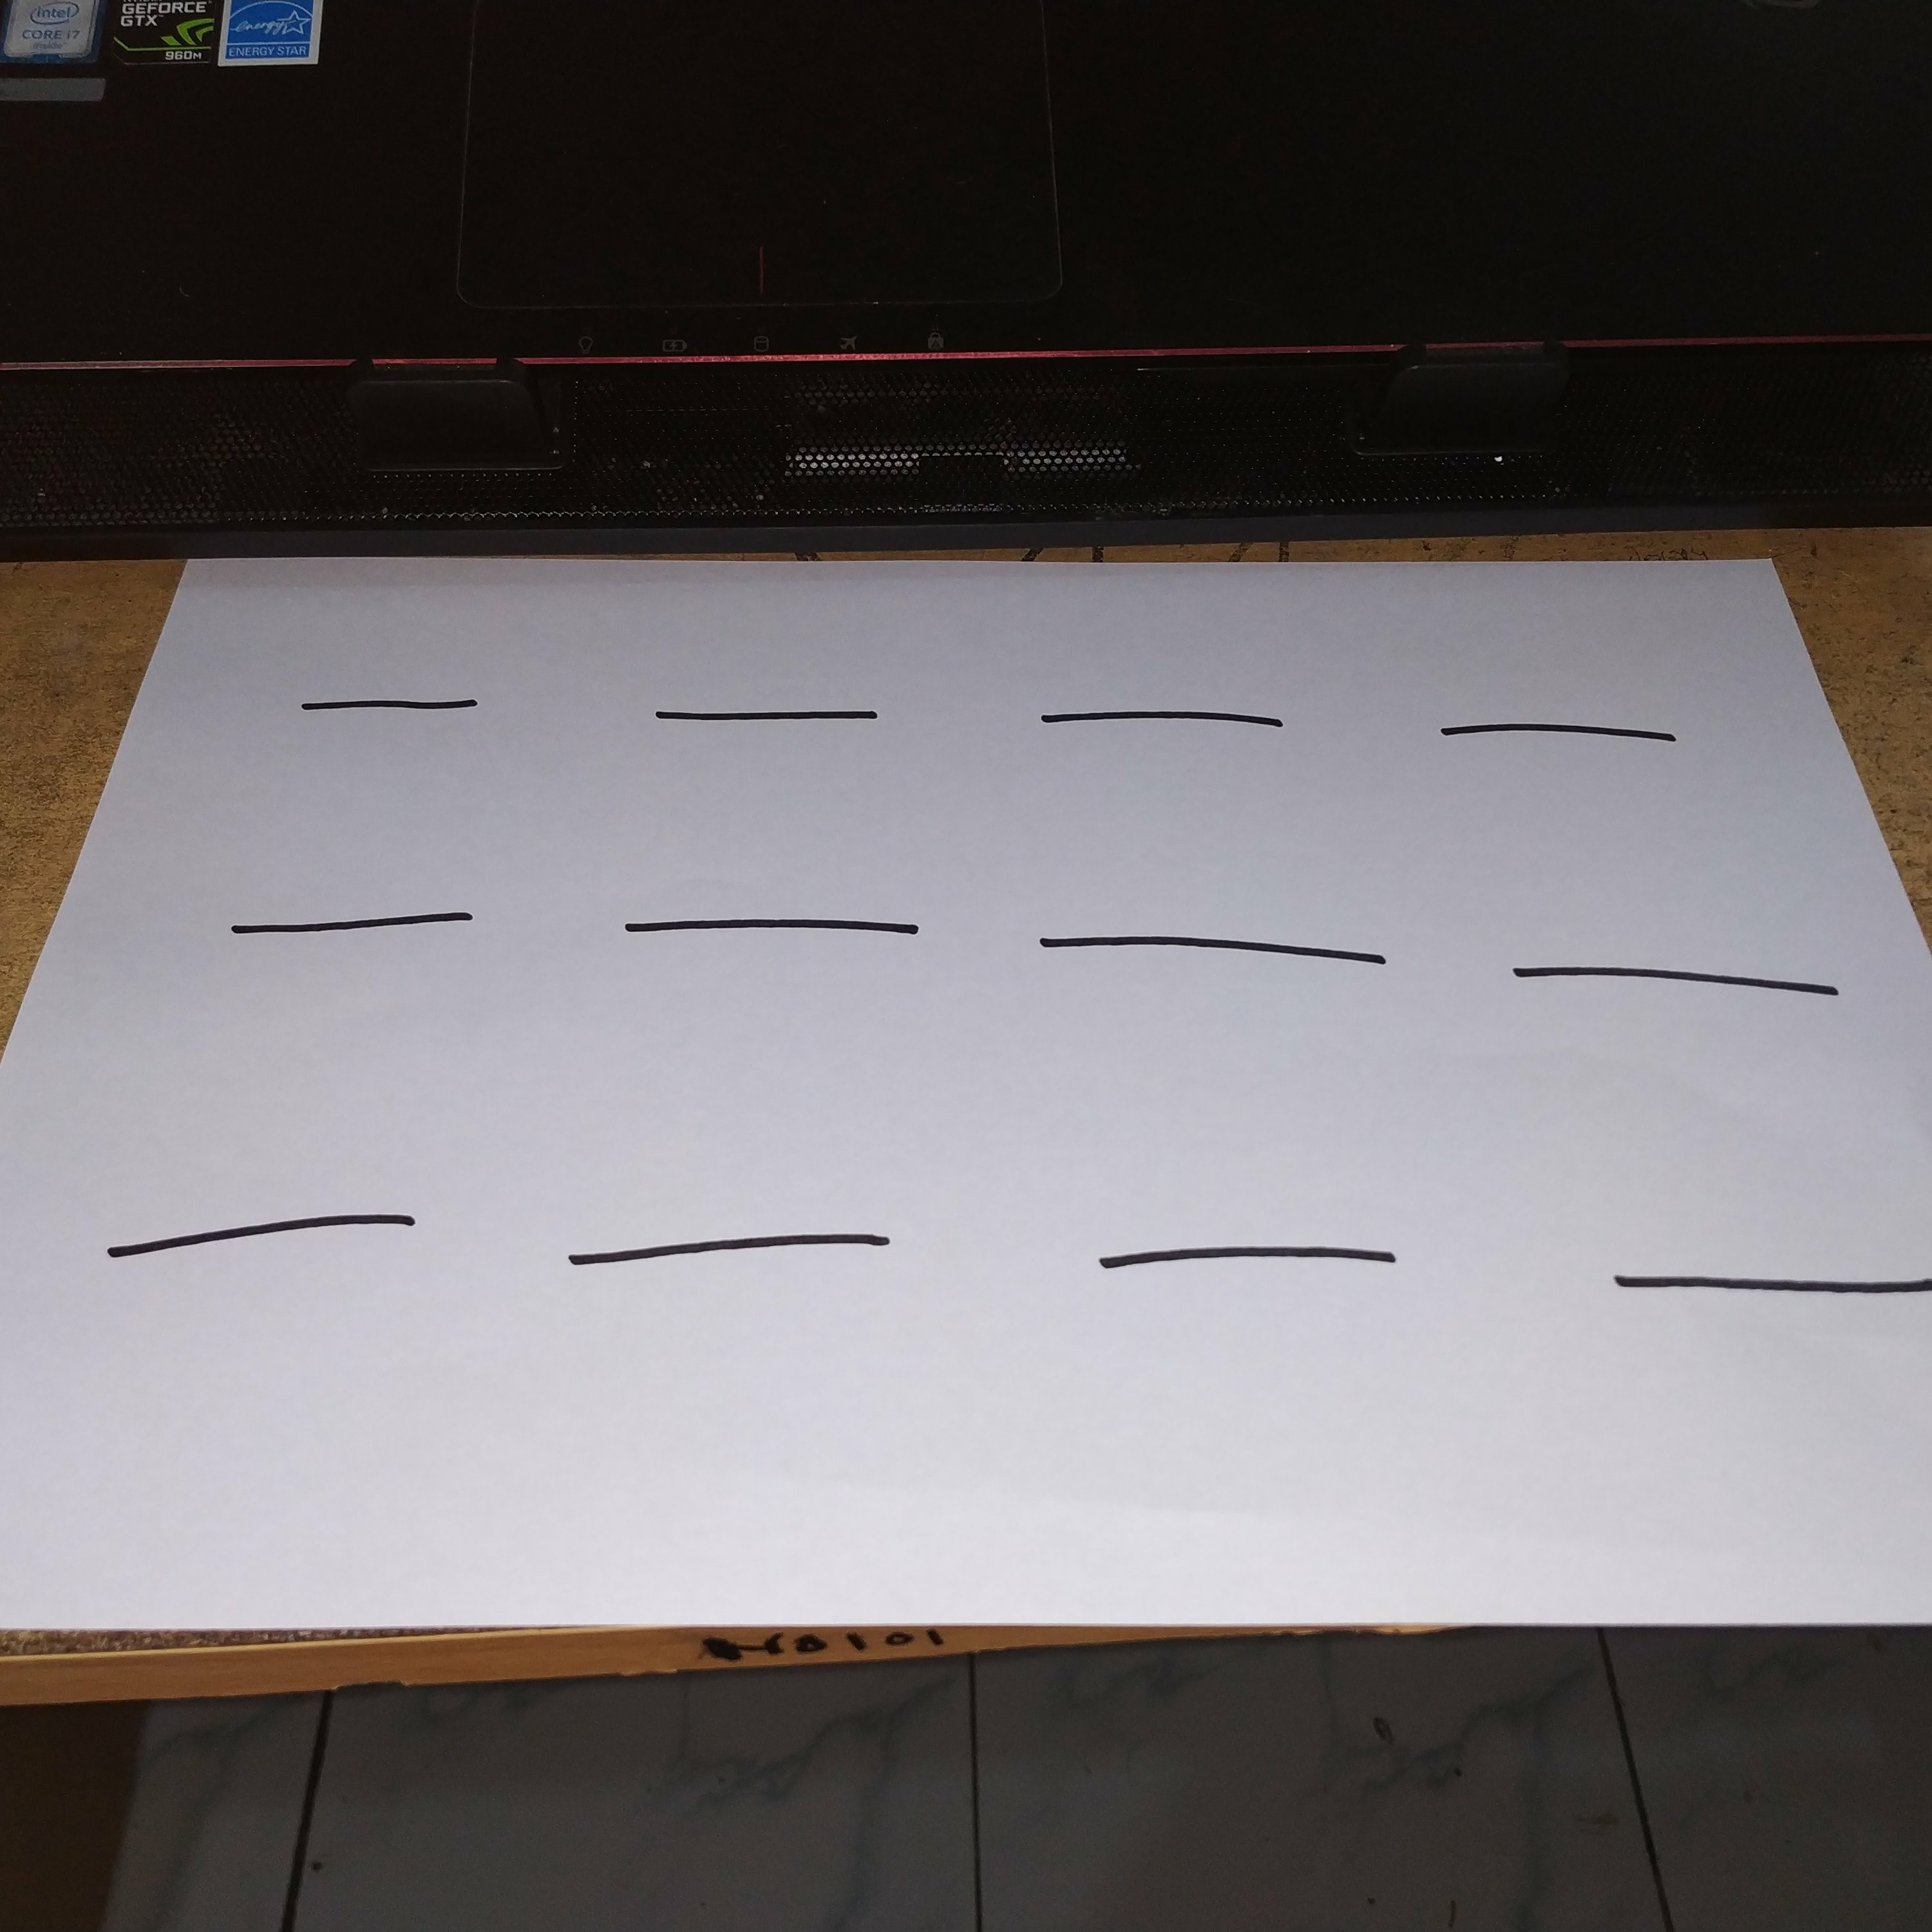min: (535, 1192, 923, 1289), (84, 1194, 448, 1295), (1582, 1231, 1932, 1334), (1061, 1211, 1440, 1299), (1497, 954, 1885, 1034), (1403, 696, 1748, 780), (1010, 918, 1414, 991), (209, 887, 513, 960), (595, 897, 952, 958), (630, 688, 923, 755), (1028, 688, 1327, 747), (273, 683, 505, 741)
